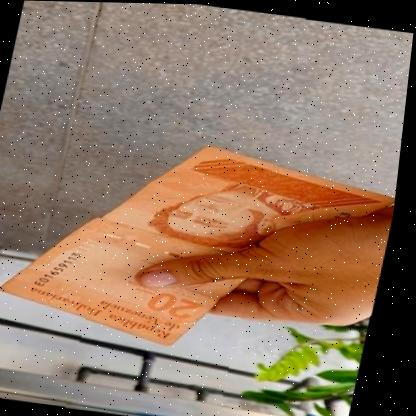twenty-front-vef: (0, 121, 405, 368)
